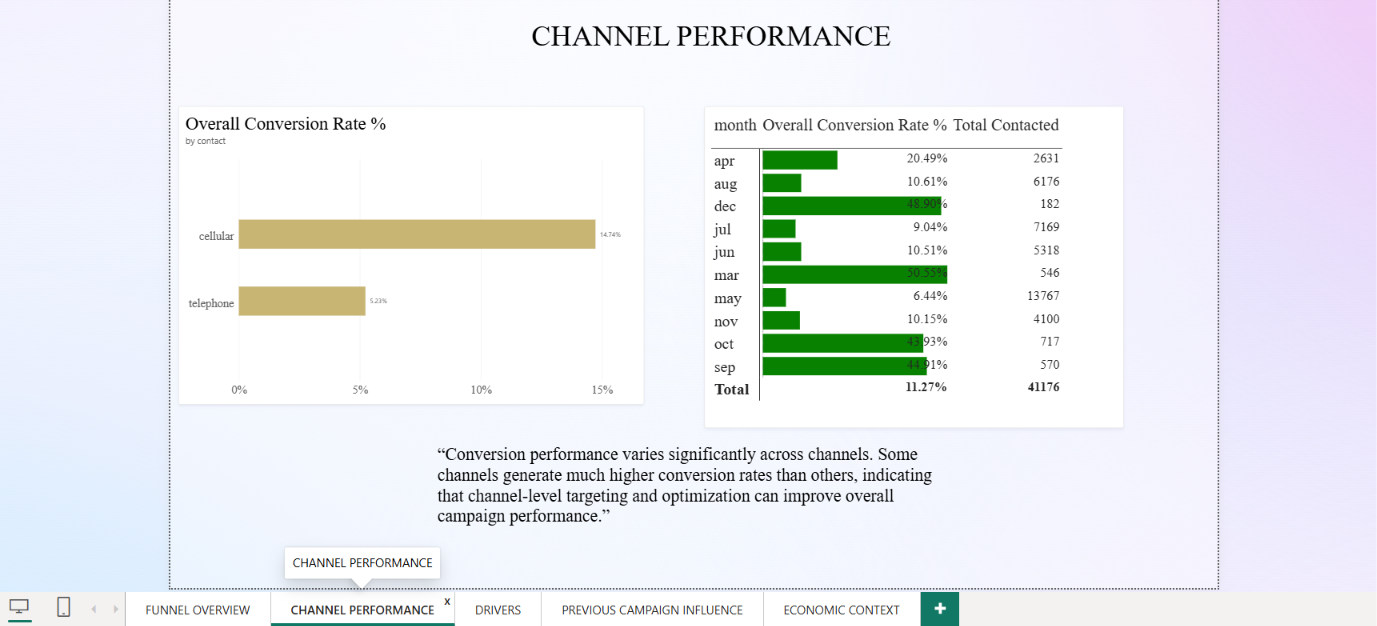

The page's visual inventory and layout, read from the dashboard file:
{"tool":"powerbi","page":{"name":"CHANNEL PERFORMANCE","canvas":[1920,1080],"ordinal":1},"visuals":[{"type":"barChart","fields":{"Category":["channel_summary.contact"],"Y":["channel_summary.Overall Conversion Rate %"]},"box":[14.4,195.5,854.2,547.5],"z":0},{"type":"pivotTable","fields":{"Rows":["cleaned_bank_marketing.month"],"Values":["channel_summary.Overall Conversion Rate %","channel_summary.Total Contacted"]},"box":[979.8,195.5,769.8,590.7],"z":1},{"type":"textbox","box":[489.9,817.2,907.7,185.2],"z":2},{"type":"textbox","box":[14,0,854,548],"z":3},{"type":"textbox","box":[662.8,37,788.3,195.5],"z":4}]}

Visuals, with their boxes on the page's 1920x1080 design canvas (x1, y1, x2, y2). These are canvas units, not pixel positions in the 1377x626 screenshot, which may show the page scaled, cropped or inside an application window:
barChart - channel_summary.contact x channel_summary.Overall Conversion Rate %: (14,196,869,743)
pivotTable - cleaned_bank_marketing.month x channel_summary.Overall Conversion Rate %: (980,196,1750,786)
textbox: (490,817,1398,1002)
textbox: (14,0,868,548)
textbox: (663,37,1451,232)
